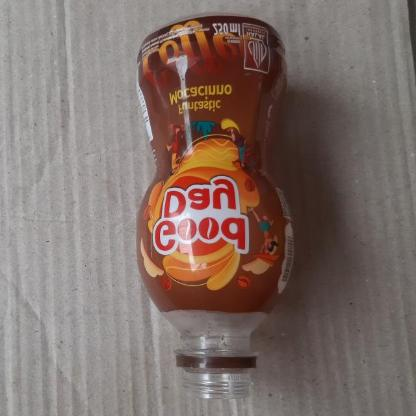Plastic Bottle: (134, 13, 297, 398)
